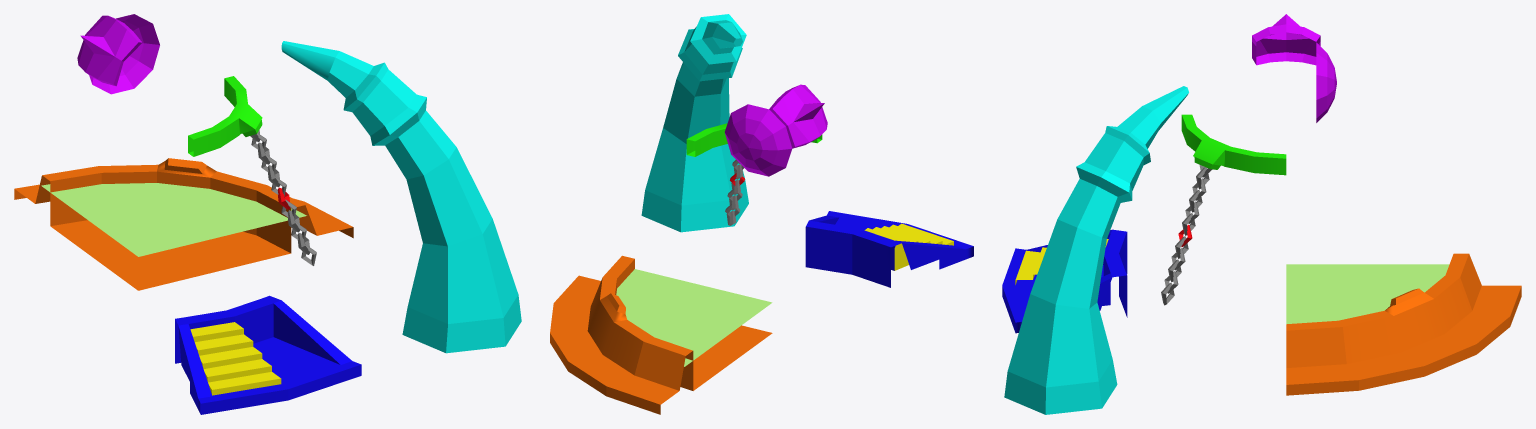
File: ShrineUnpainted.obj
3 renders of one model, left to right at view 1: azimuth 30°, elevation 25°; view 2: azimuth 150°, elevation 25°; view 3: azimuth 270°, elevation 25°, orthographic. The views are drawn at different scales.
Visible parts, largest first — view 1: Mesh_Shrine01; view 2: Mesh_Shrine01; view 3: Mesh_Shrine01.
Part boxes in pixels (<box>): Mesh_Shrine01: <box>14,14,521,414</box>; Mesh_Shrine01: <box>550,14,973,414</box>; Mesh_Shrine01: <box>1002,14,1521,414</box>.
Size of the model in its own units: 1.57 by 1.23 by 2.21.
